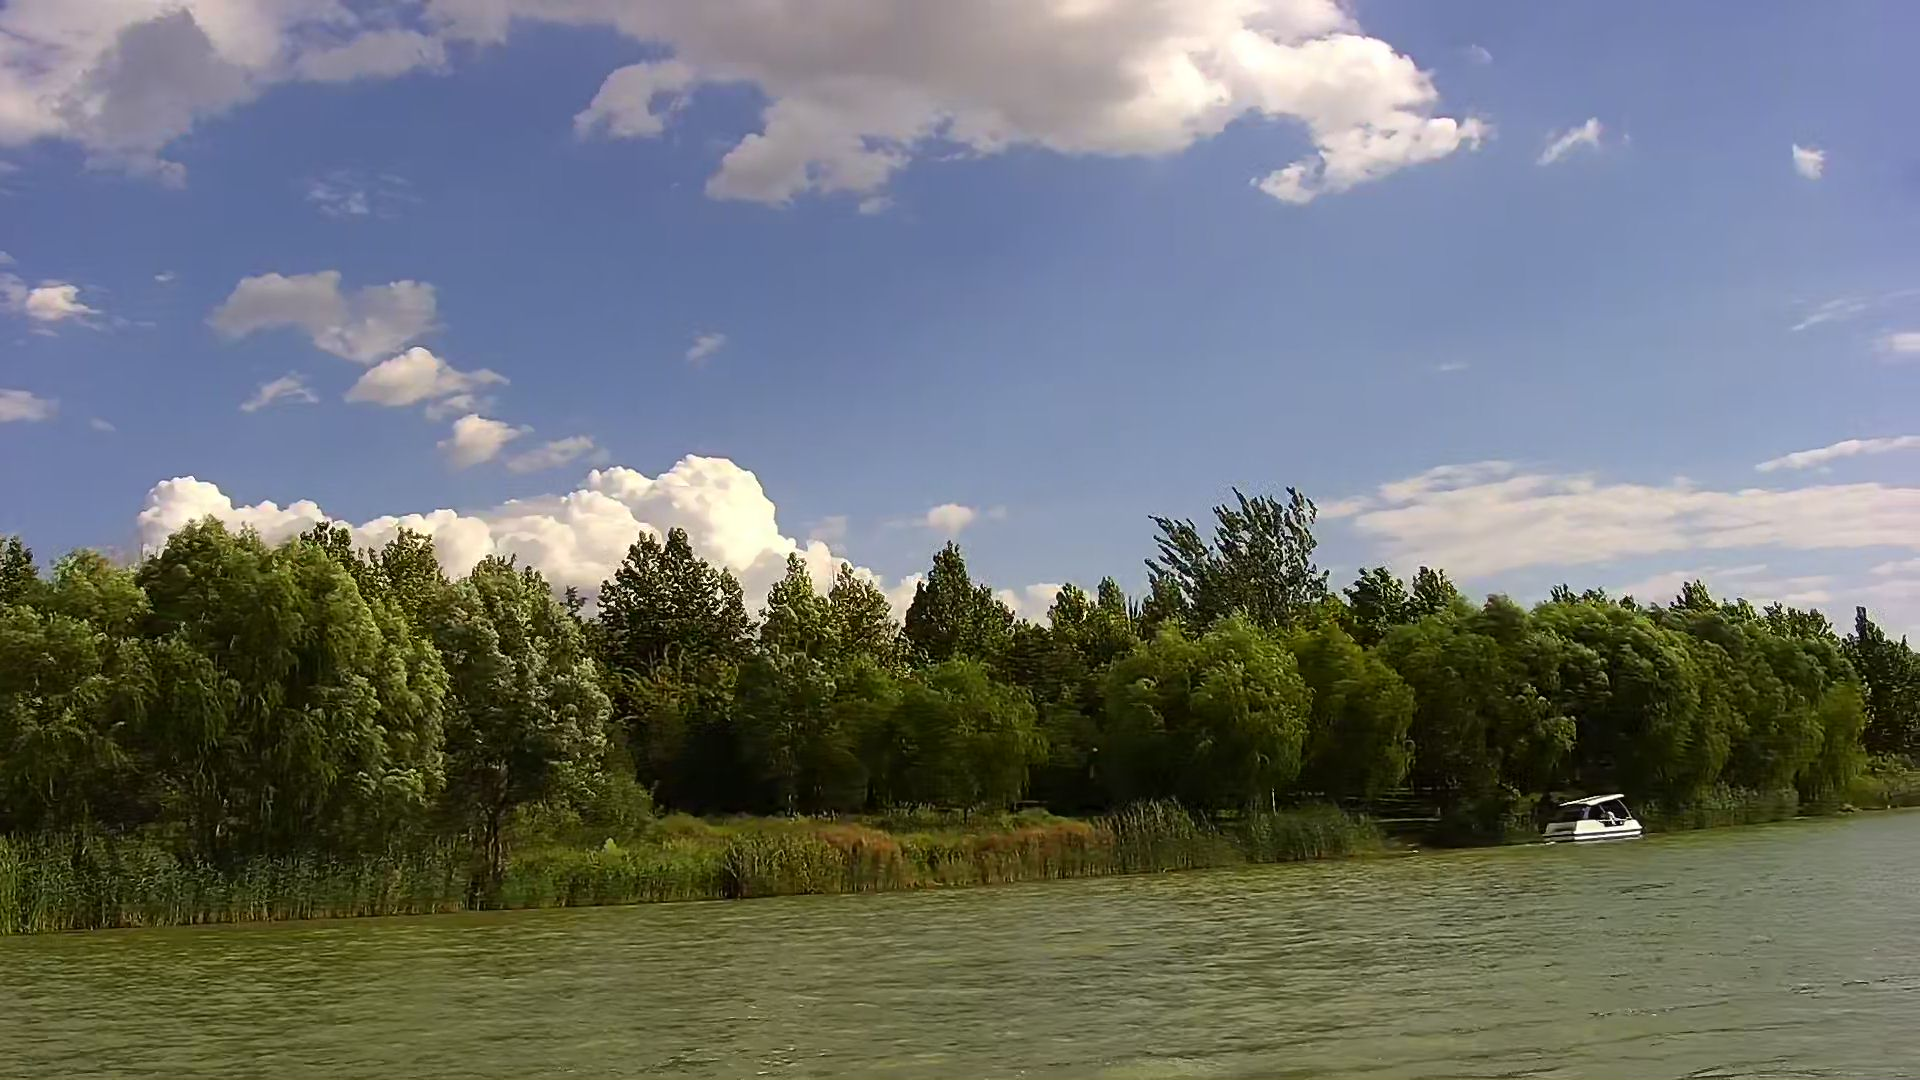boat: (1540, 791, 1642, 848)
